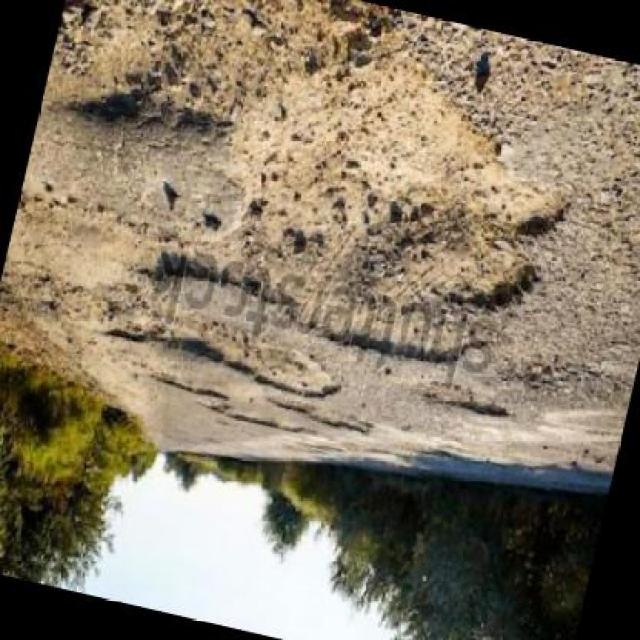pothole1: (194, 0, 611, 395), (86, 284, 351, 410), (200, 376, 318, 442), (265, 394, 377, 444), (418, 379, 514, 430)
